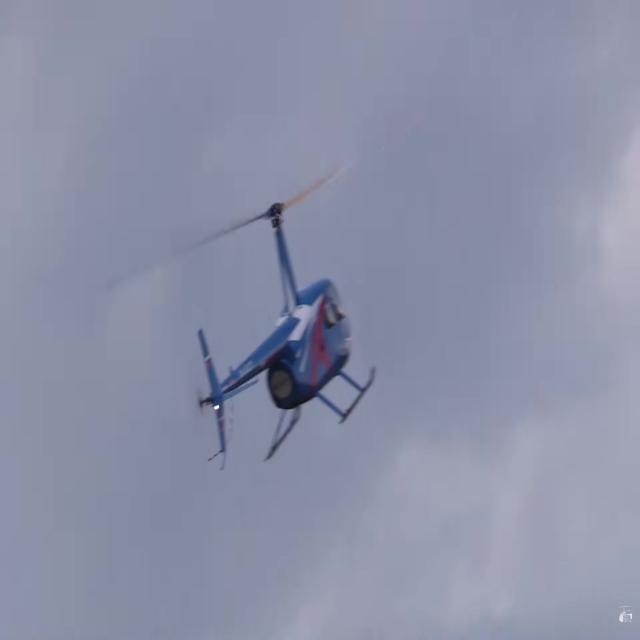CIV_HELO: (197, 197, 378, 464)
